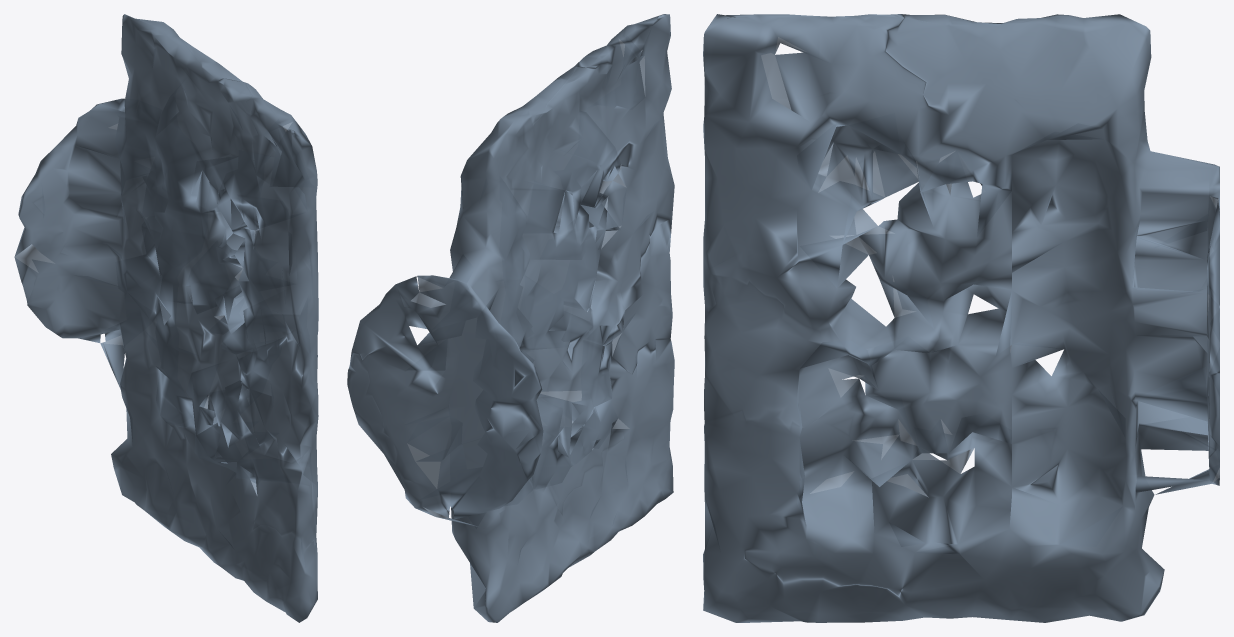
File: monitor_0361_original.obj
3 renders of one model, left to right at view 1: azimuth 30°, elevation 25°; view 2: azimuth 150°, elevation 25°; view 3: azimuth 270°, elevation 25°, orthographic. The views are drawn at different scales.
Size of the model in its own units: 0.6401 by 1.53 by 1.19.
